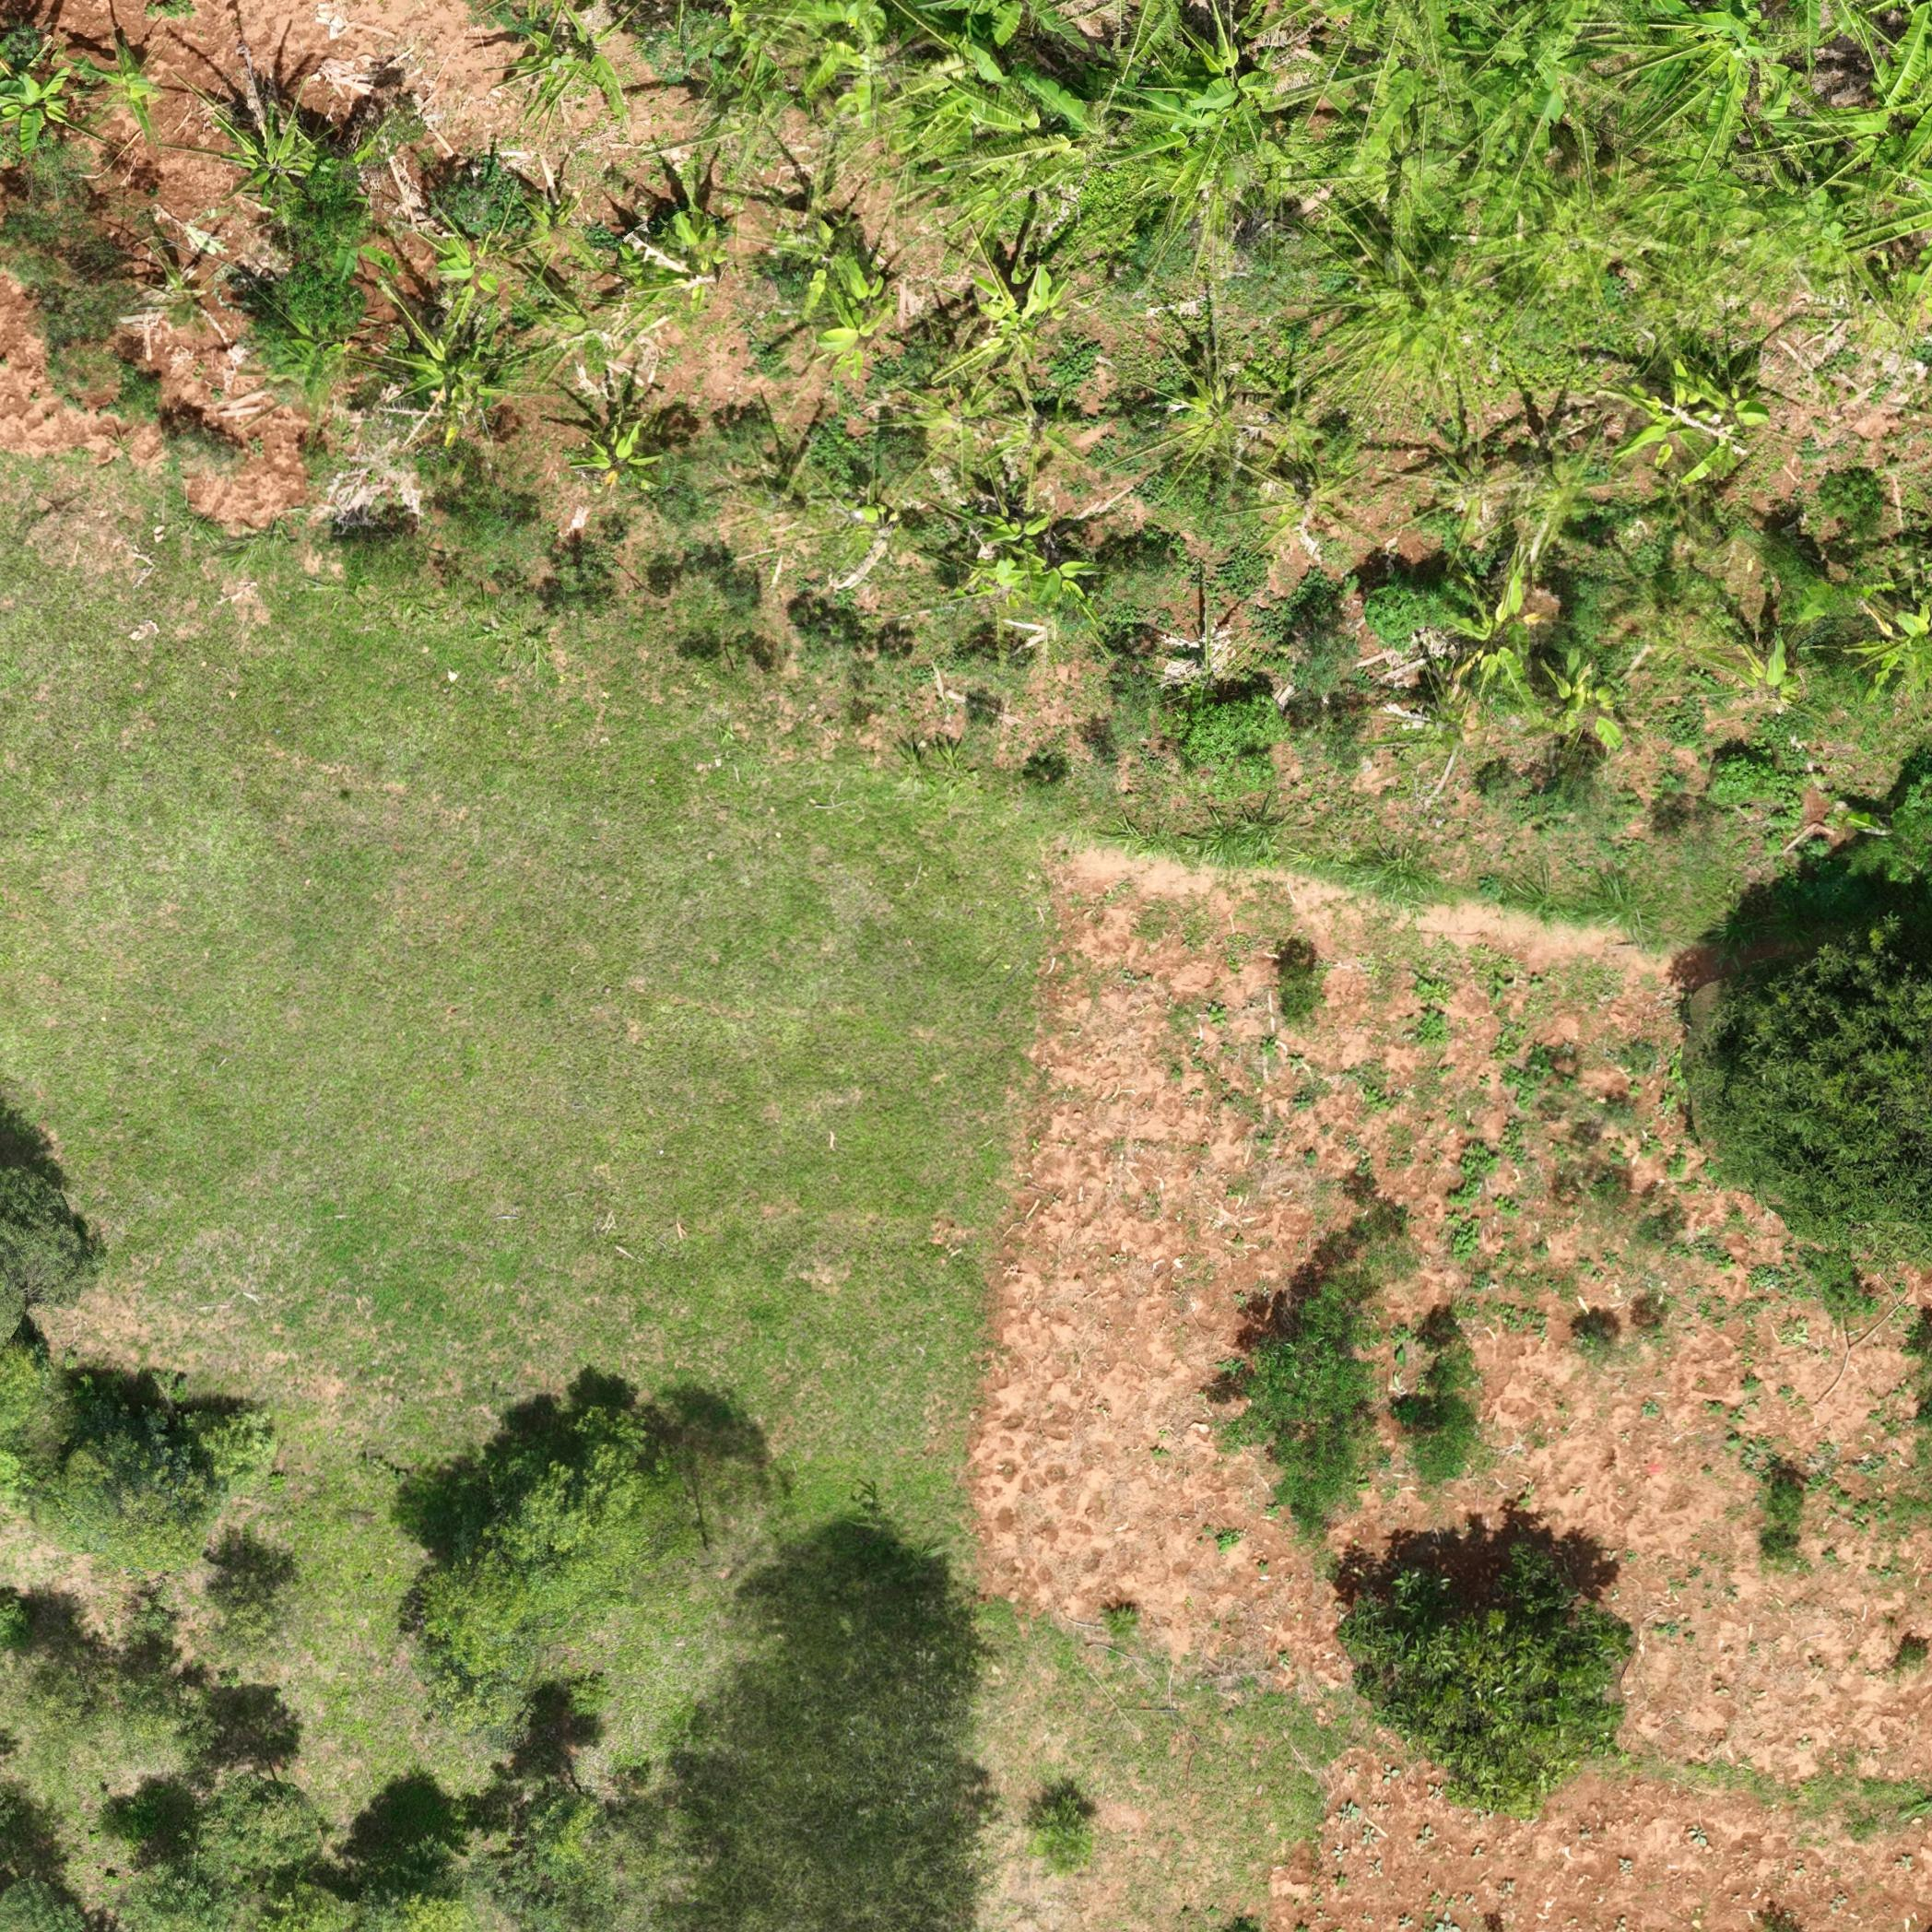Banana: (1297, 207, 1502, 400), (1120, 324, 1284, 479), (1157, 11, 1323, 159), (718, 0, 888, 134), (934, 241, 1092, 380), (375, 318, 533, 441), (869, 377, 1028, 495), (1346, 674, 1504, 786), (1327, 7, 1500, 106), (1139, 607, 1260, 736), (626, 191, 754, 311), (202, 104, 336, 216), (1021, 76, 1146, 189), (1332, 113, 1483, 205), (786, 283, 911, 391), (1403, 437, 1502, 554), (759, 182, 870, 283), (669, 67, 786, 163), (472, 25, 605, 108), (1419, 568, 1502, 697), (403, 218, 513, 315), (525, 267, 626, 357), (513, 186, 607, 280), (134, 234, 221, 333), (947, 488, 1049, 568), (0, 64, 71, 161), (897, 743, 943, 805)
